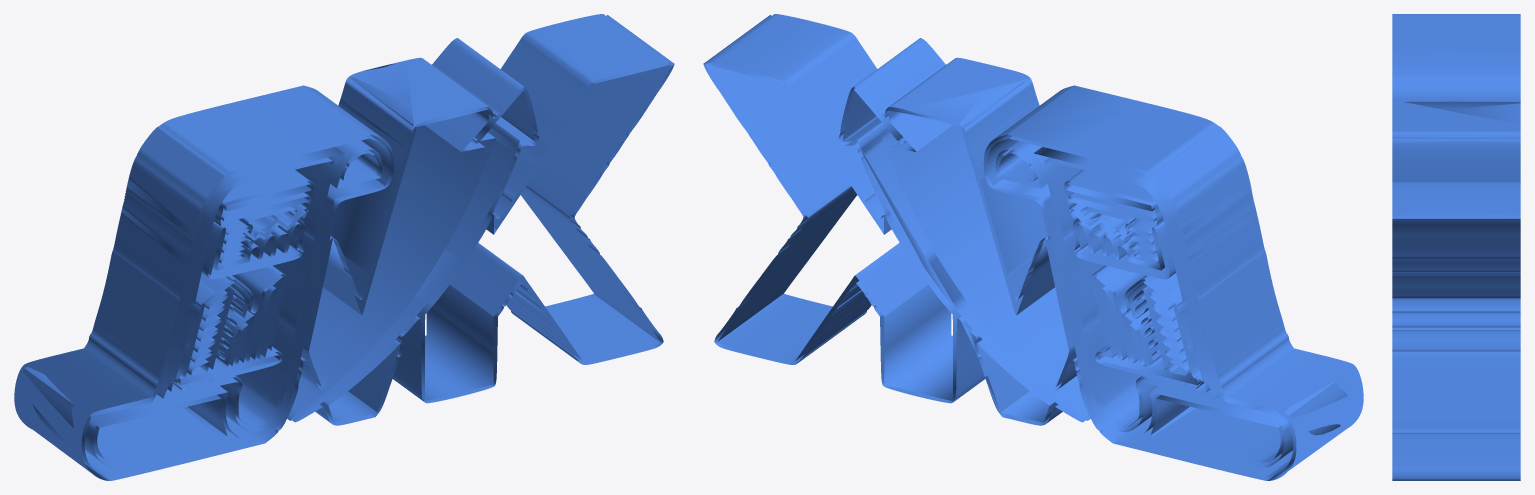
Rendered from asdasoduagdiuagw (1).glb.
3 renders of one model, left to right at view 1: azimuth 30°, elevation 25°; view 2: azimuth 150°, elevation 25°; view 3: azimuth 270°, elevation 25°, orthographic. The views are drawn at different scales.
Parts seen in each view (by area): view 1: Curve; view 2: Curve; view 3: Curve.
Part boxes in pixels (box(x1,y1,x2,y2)): Curve: box(14, 14, 674, 480); Curve: box(703, 14, 1363, 480); Curve: box(1392, 14, 1520, 480).
Bounding box in the file's own units: 61.23 × 28.98 × 12.
